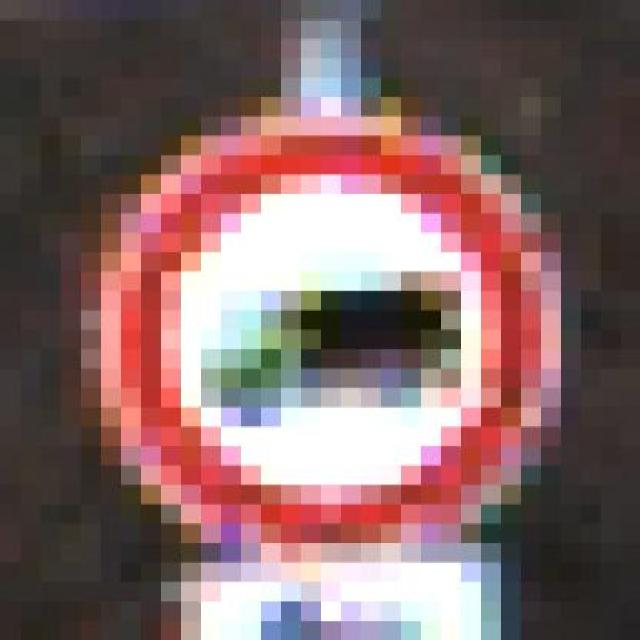Truck traffic is prohibited: (40, 78, 560, 562)
